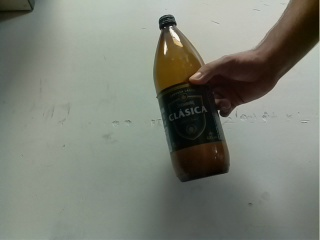pote cristal: (152, 14, 231, 183)
